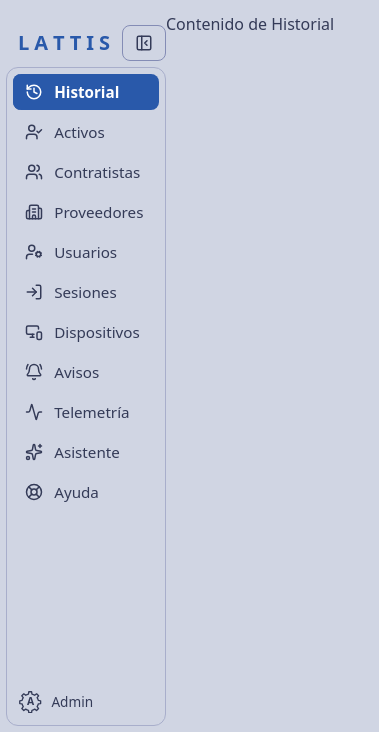
App -- navegación entre secciones › no vuelve a montar una sección ya visitada al volver a ella
expect the text "Contenido de Historial" is shown: met, box [166,13,334,35]
Click the link "Contratistas" at (83, 172), box [25,162,140,182]
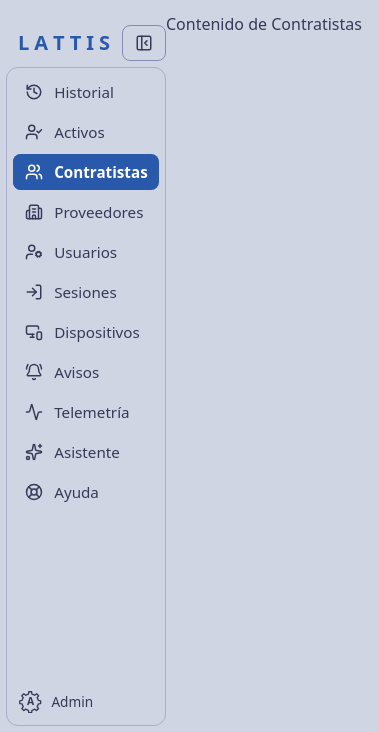
expect the text "Contenido de Contratistas" is shown: met, box [166,13,362,35]
Click the link "Historial" at (69, 92), box [25,82,114,102]
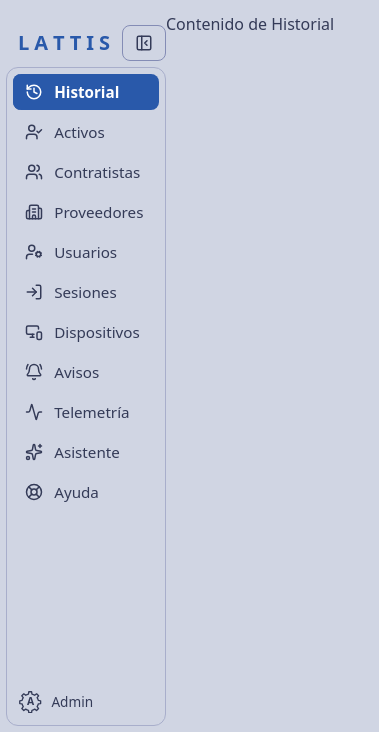
expect the text "Contenido de Historial" is shown: met, box [166,13,334,35]
